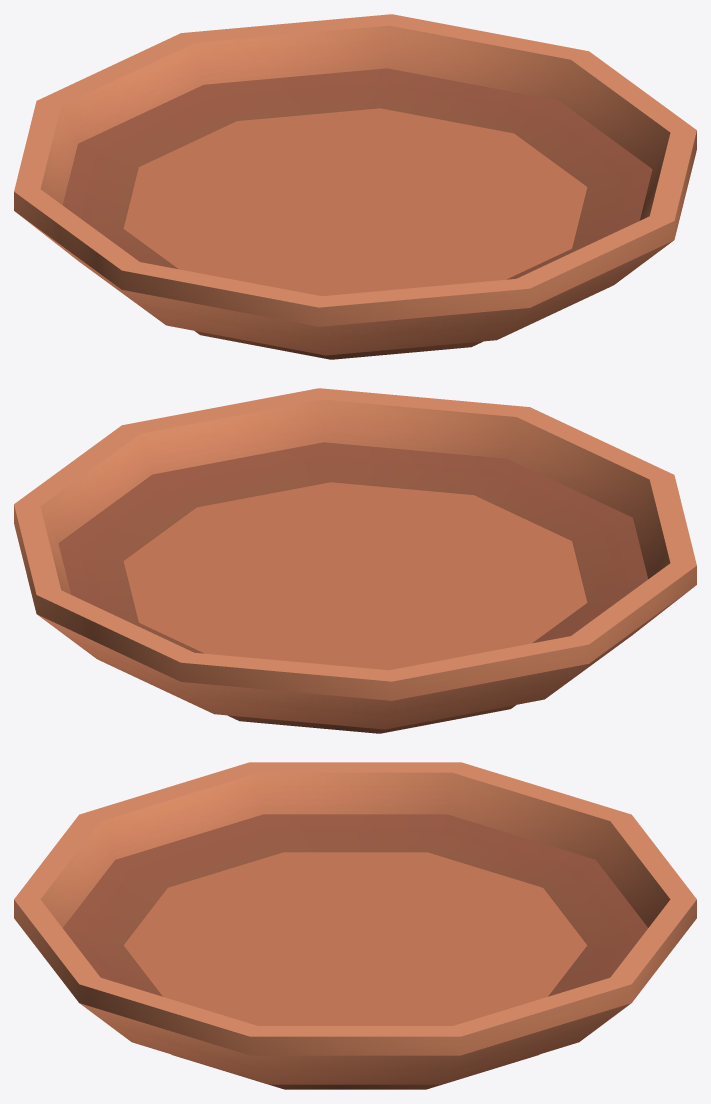
File: tajine.glb
3 renders of one model, top to bottom at view 1: azimuth 30°, elevation 25°; view 2: azimuth 150°, elevation 25°; view 3: azimuth 270°, elevation 25°, orthographic. The views are drawn at different scales.
Parts seen in each view (by area): view 1: tajine; view 2: tajine; view 3: tajine.
Part boxes in pixels (box(x1,y1,x2,y2)): tajine: box(14, 14, 696, 359); tajine: box(14, 388, 696, 733); tajine: box(14, 762, 696, 1089).
Bounding box in the file's own units: 0.8191 × 0.1379 × 0.8613.
Materials: 1 (1 with a texture image).
